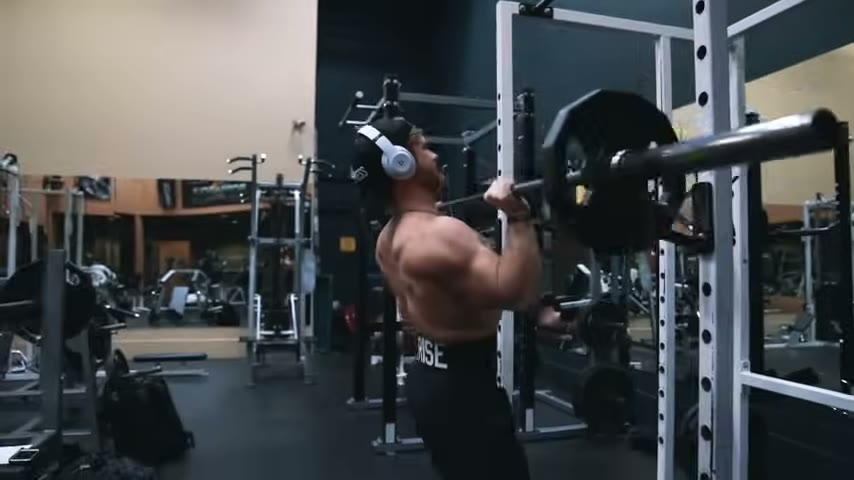barbell_plate_side: (726, 0, 852, 258)
